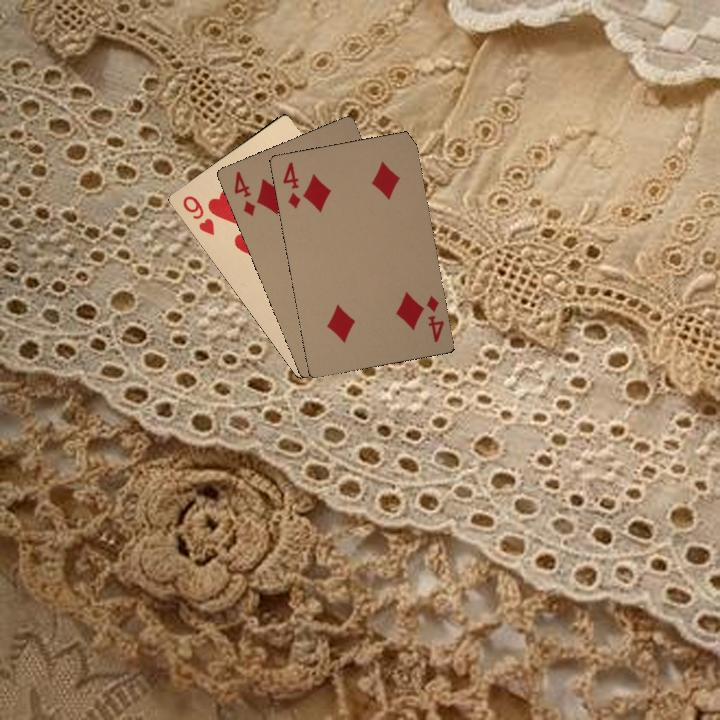4d: (230, 167, 258, 219), (278, 158, 303, 211), (422, 292, 447, 345)
9h: (178, 191, 217, 238)
